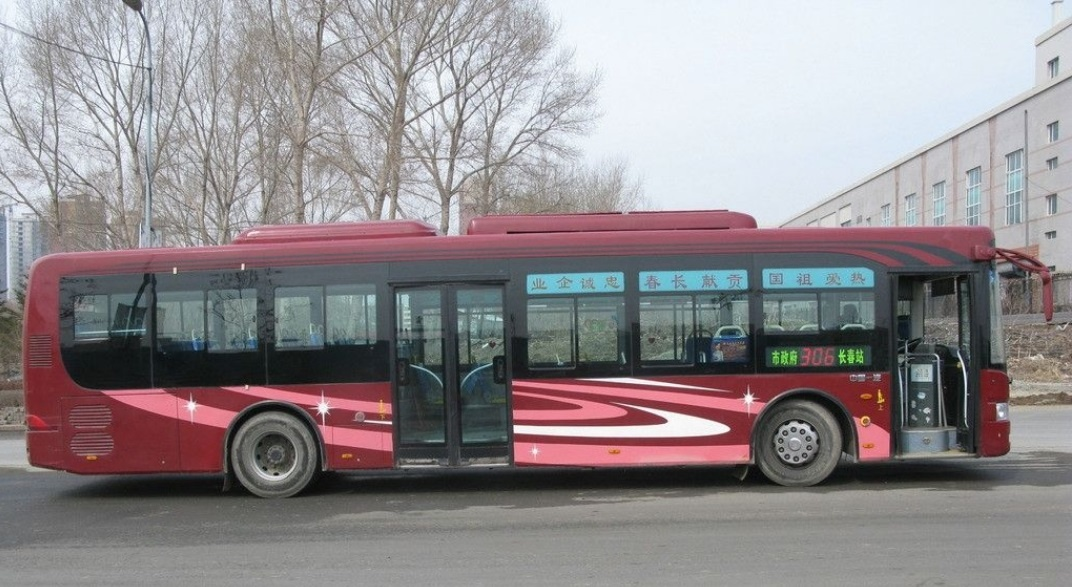bus: (27, 193, 1043, 515)
